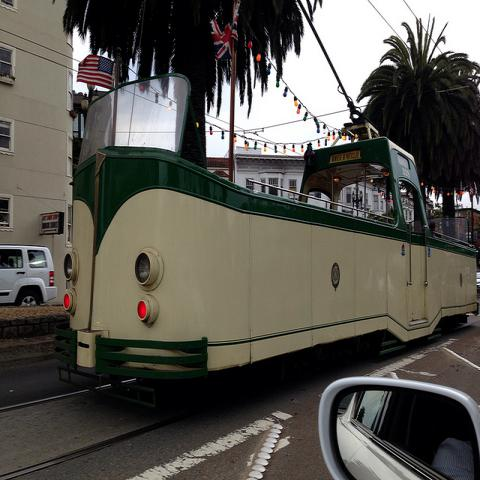bus: (45, 67, 479, 418)
car: (318, 376, 479, 476), (0, 244, 57, 307), (476, 271, 480, 287)
